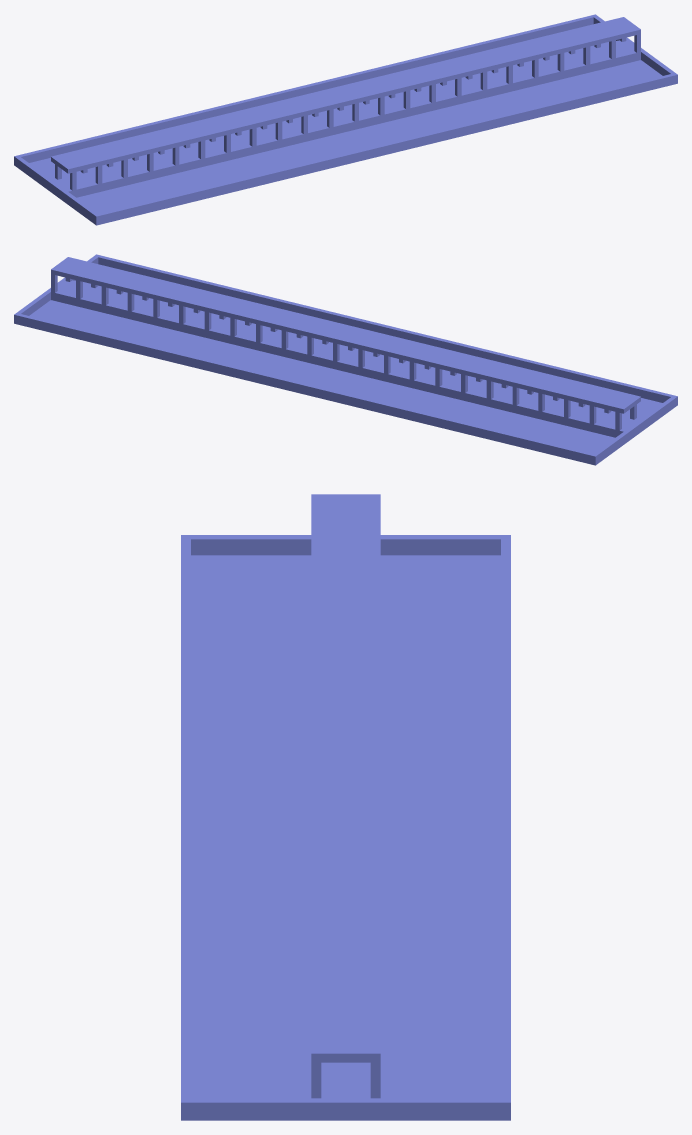
Rendered from B1B2_Sedimentation_Tanks.glb.
3 renders of one model, top to bottom at view 1: azimuth 30°, elevation 25°; view 2: azimuth 150°, elevation 25°; view 3: azimuth 270°, elevation 25°, orthographic. The views are drawn at different scales.
Parts seen in each view (by area): view 1: Floor1; view 2: Floor1; view 3: Floor1.
Part boxes in pixels (box(x1,y1,x2,y2)): Floor1: box(14, 14, 677, 225); Floor1: box(14, 254, 677, 465); Floor1: box(181, 494, 510, 1120).
Size of the model in its own units: 136 by 7 by 33.34.
